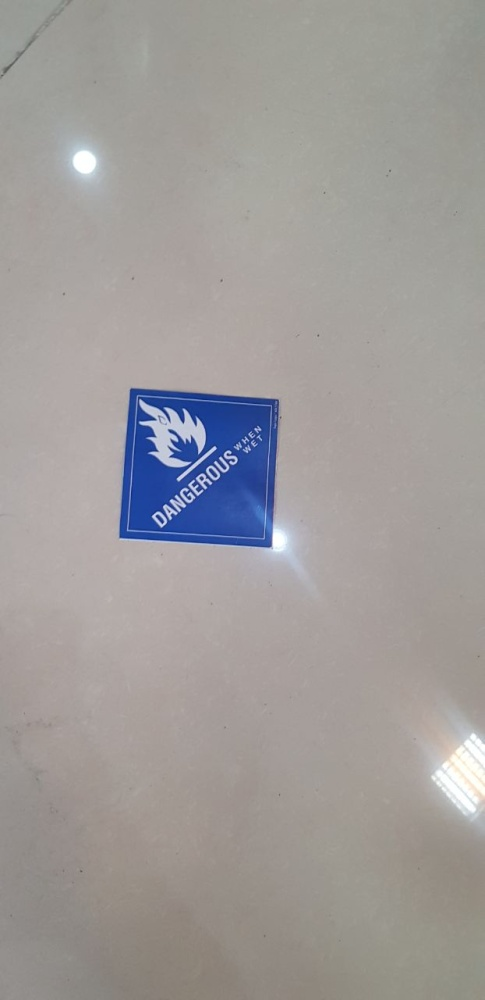Dangerous when wet: (118, 388, 278, 547)
